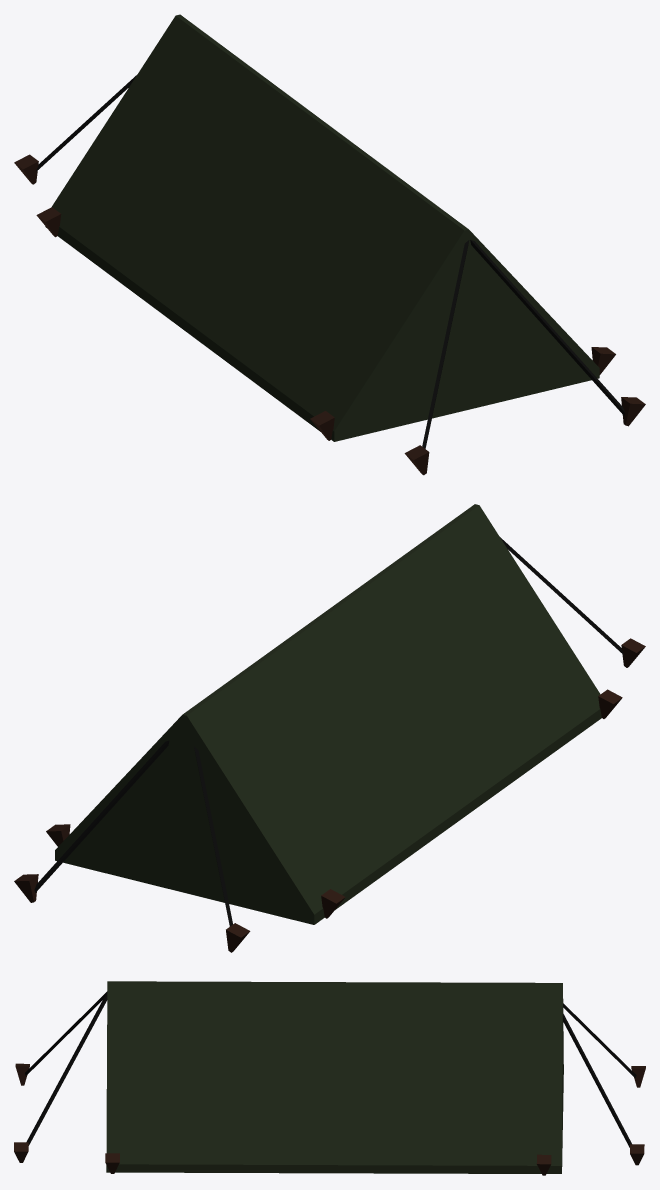
Rendered from Tienda.FBX.
The picture shows the model from 3 angles, top to bottom: view 1: azimuth 30°, elevation 25°; view 2: azimuth 150°, elevation 25°; view 3: azimuth 270°, elevation 25°; orthographic projection. The views are drawn at different scales.
Visible parts, largest first — view 1: Tienda; view 2: Tienda; view 3: Tienda.
Part boxes in pixels (left/top/right/bottom): Tienda: left=14, top=14, right=645, bottom=475; Tienda: left=14, top=504, right=645, bottom=952; Tienda: left=14, top=981, right=645, bottom=1175.
Size of the model in its own units: 431 by 249 by 1011.
